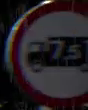Heavy Vehicles: (3, 1, 87, 106)
